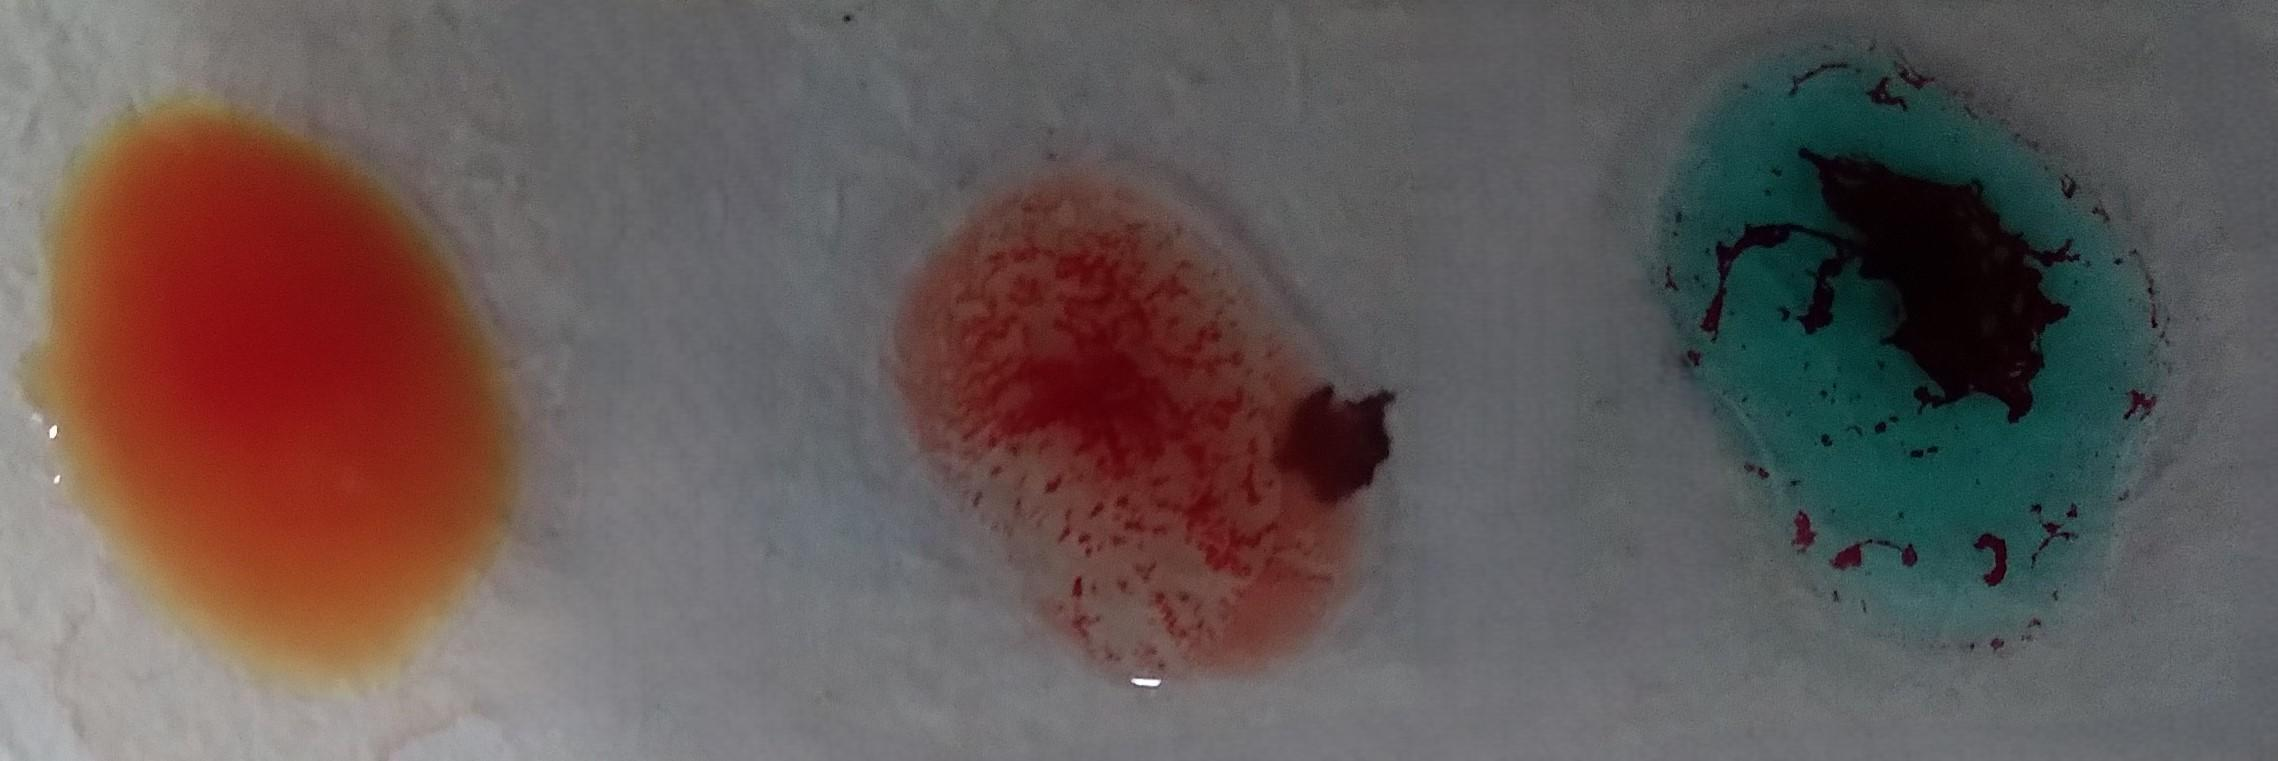A: (1658, 55, 2170, 658)
D: (883, 152, 1385, 699)
